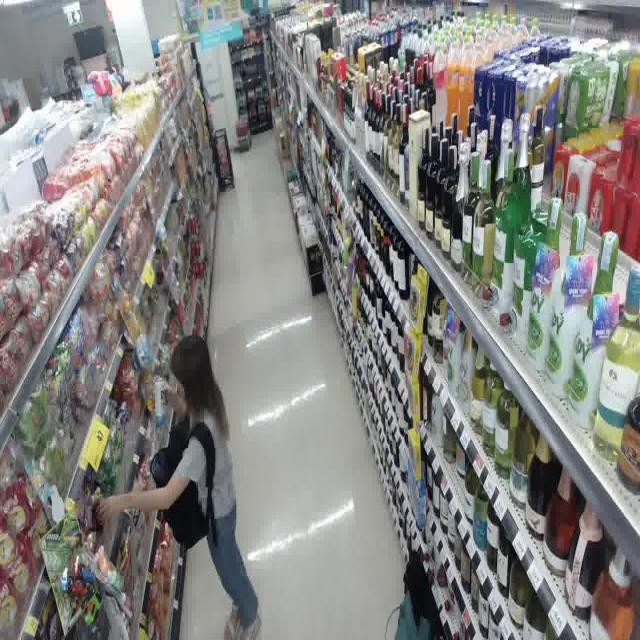pickup: (83, 321, 274, 640)
